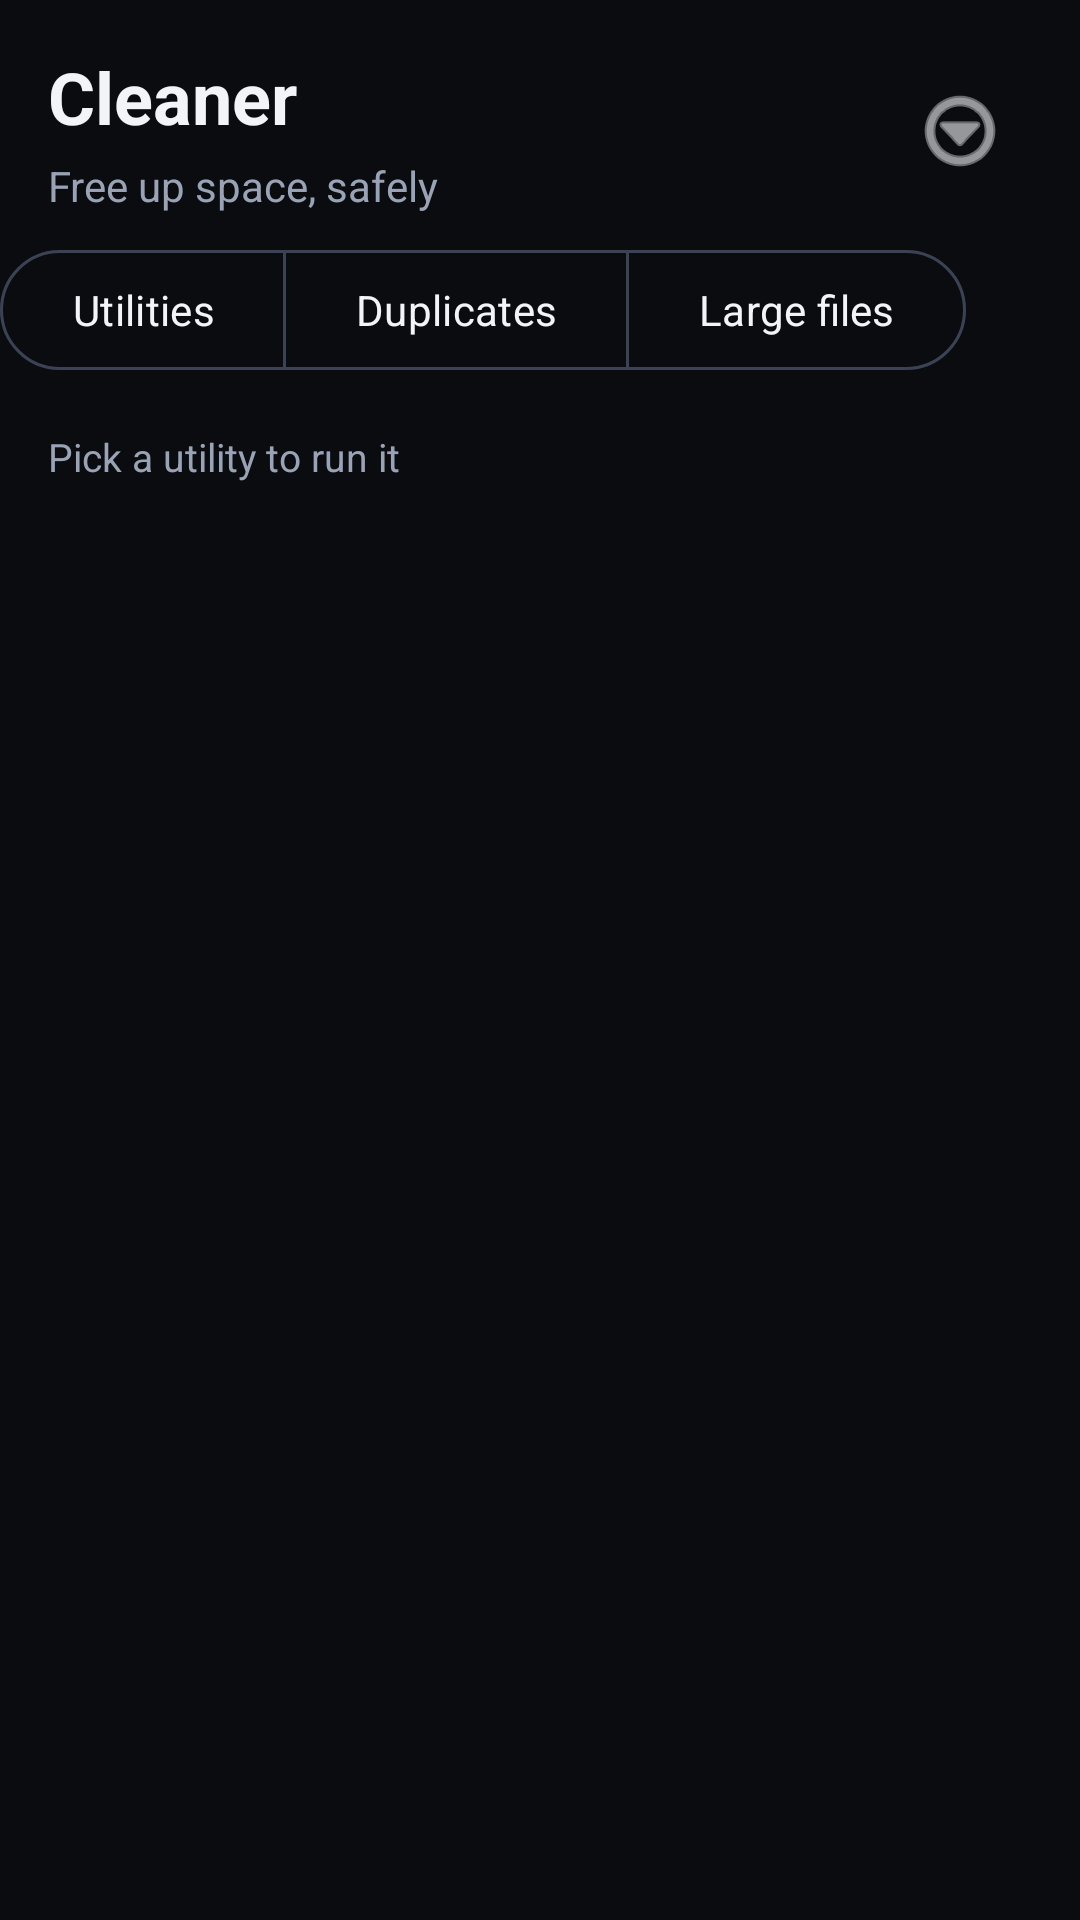

Named icons in this screenshot (1080*1920) and their centers, (x,y):
Open options: (960,131)
